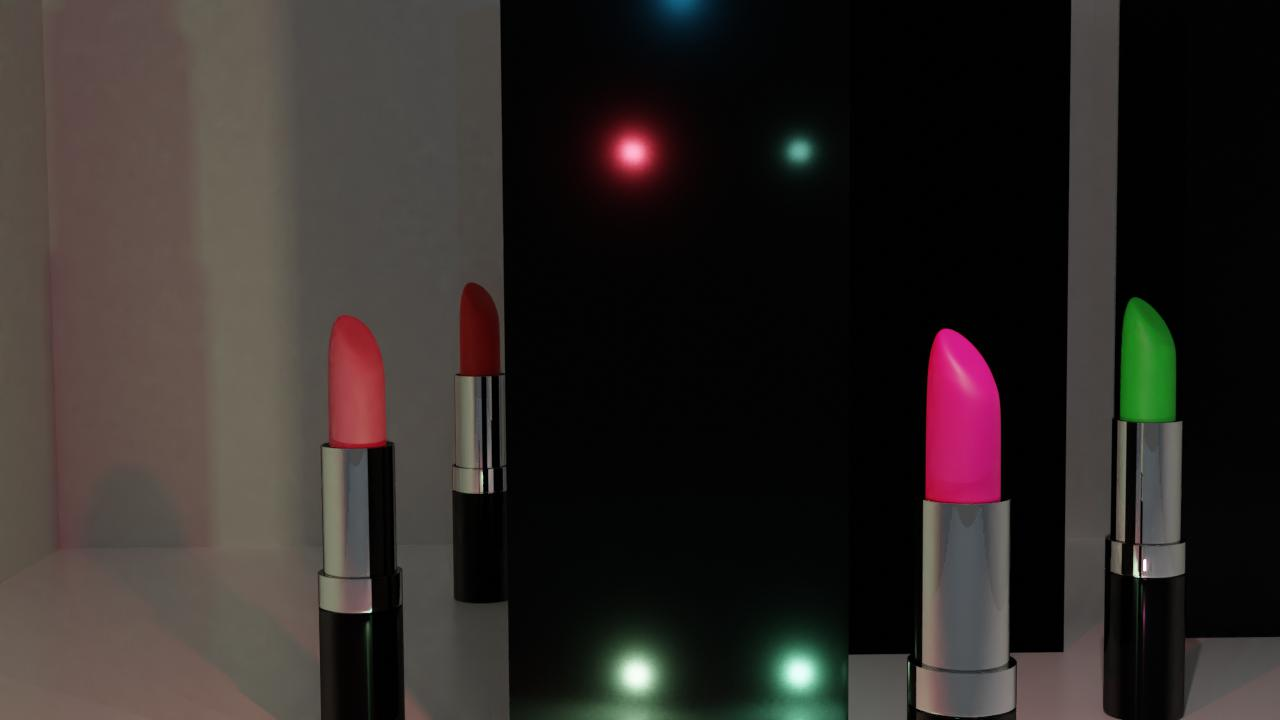CLASSIFIER_NAME: (904, 322, 1020, 720), (1101, 292, 1189, 720), (316, 309, 407, 720), (451, 278, 514, 603)
